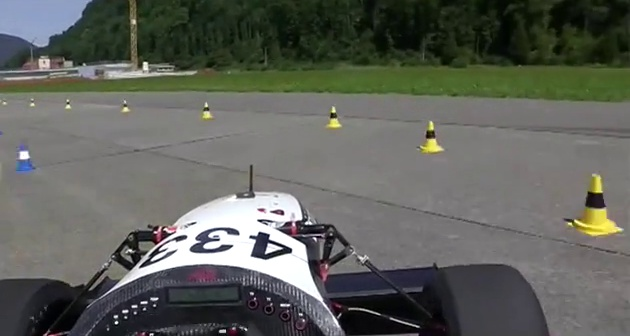Cone: (568, 172, 621, 239), (416, 119, 445, 154), (14, 140, 38, 174), (326, 105, 343, 128), (201, 100, 214, 120)
